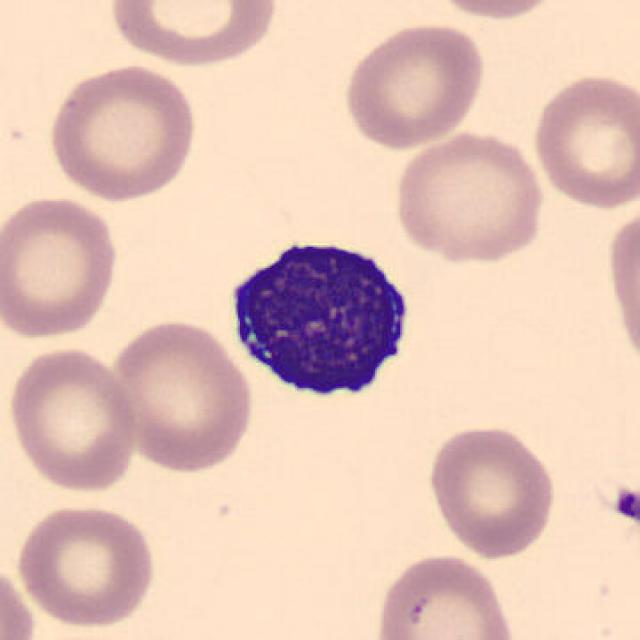Lymphocyte: (215, 224, 423, 409)
Platelets: (608, 482, 638, 526)
RBC: (107, 314, 256, 474), (43, 60, 199, 204), (390, 127, 548, 266), (4, 342, 140, 495), (339, 17, 489, 152), (423, 420, 560, 560), (13, 501, 158, 629), (0, 192, 123, 342), (528, 68, 638, 212), (370, 550, 519, 640), (105, 0, 283, 69), (602, 197, 640, 377), (423, 0, 569, 23), (0, 559, 37, 640)
